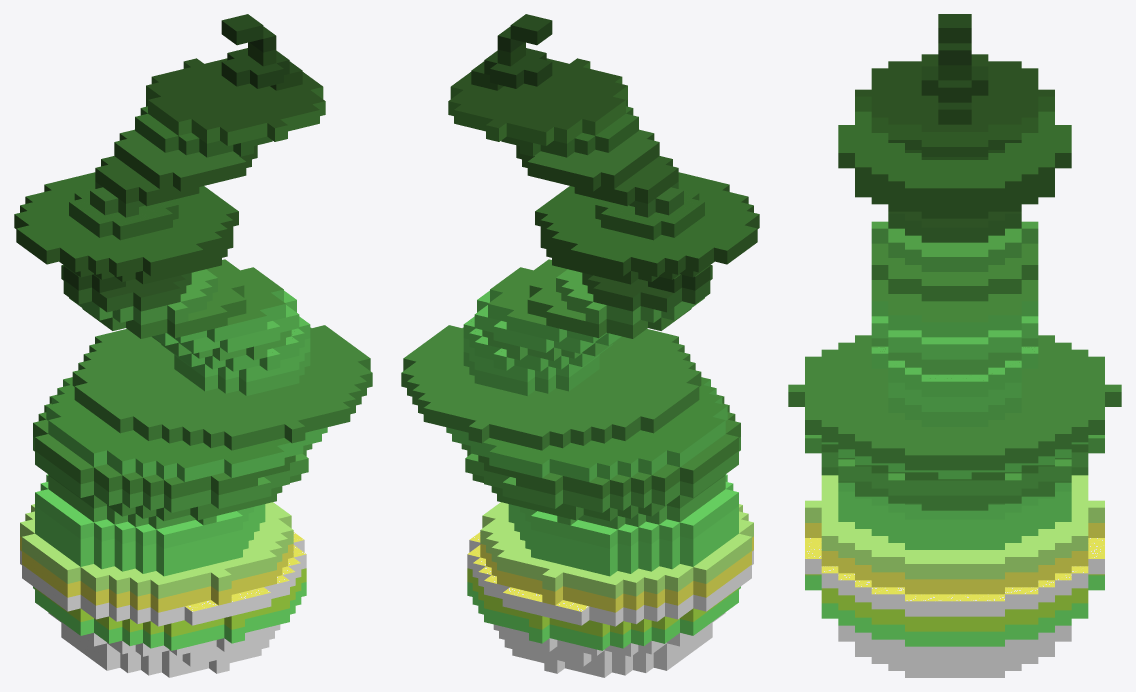
Rendered from SMGTA0_flame.obj.
3 renders of one model, left to right at view 1: azimuth 30°, elevation 25°; view 2: azimuth 150°, elevation 25°; view 3: azimuth 270°, elevation 25°, orthographic. The views are drawn at different scales.
Visible parts, largest first — view 1: TorchFlame; view 2: TorchFlame; view 3: TorchFlame.
Boxes of the visible parts, x1,y1,x2,y2 form: TorchFlame: [14, 14, 372, 677]; TorchFlame: [401, 14, 759, 677]; TorchFlame: [788, 14, 1121, 677].
Size of the model in its own units: 0.5455 by 1 by 0.4545.
1 material, 1 textured.
